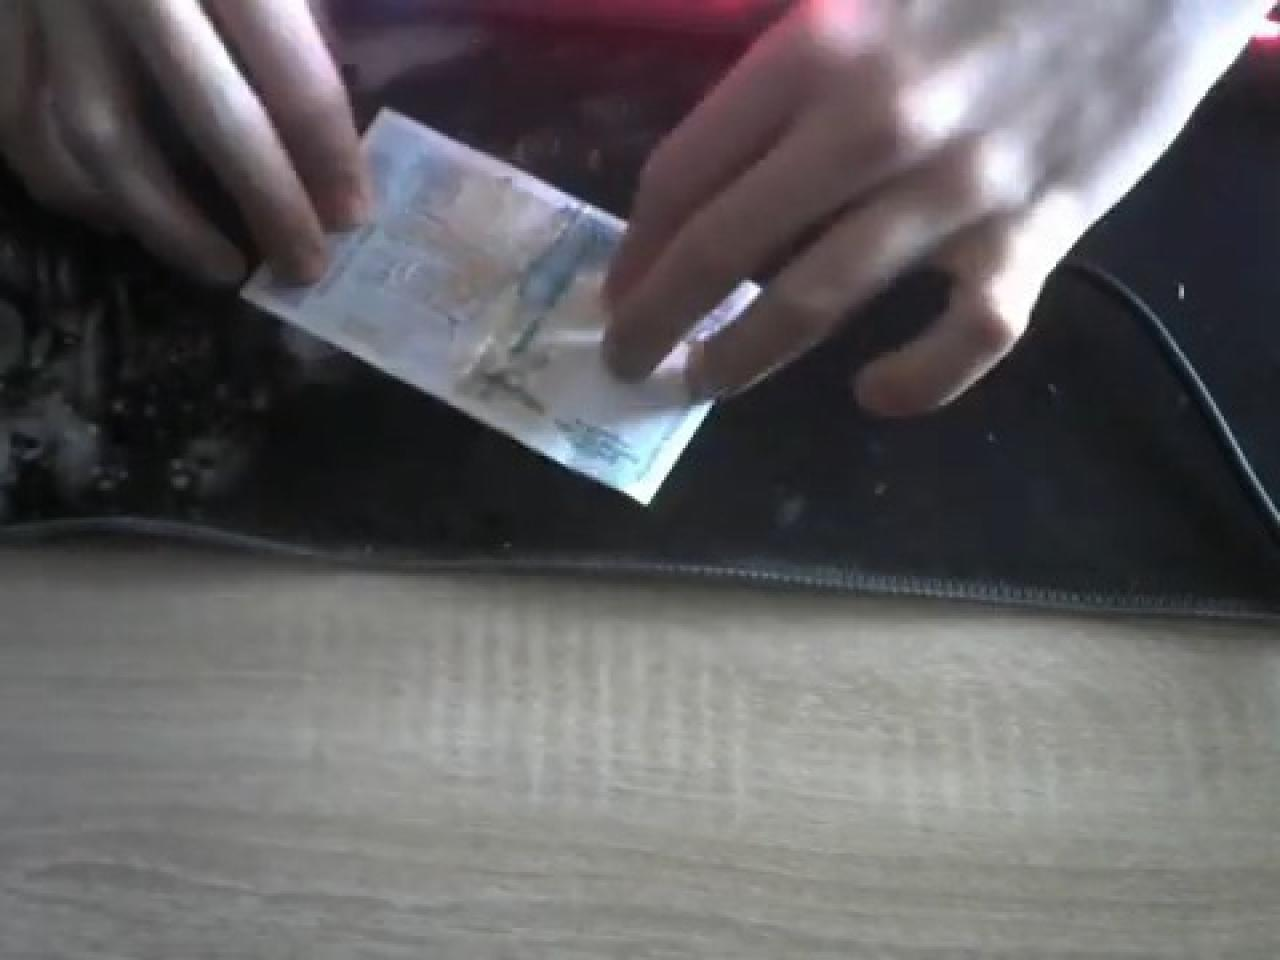20leva: (237, 112, 755, 506)
